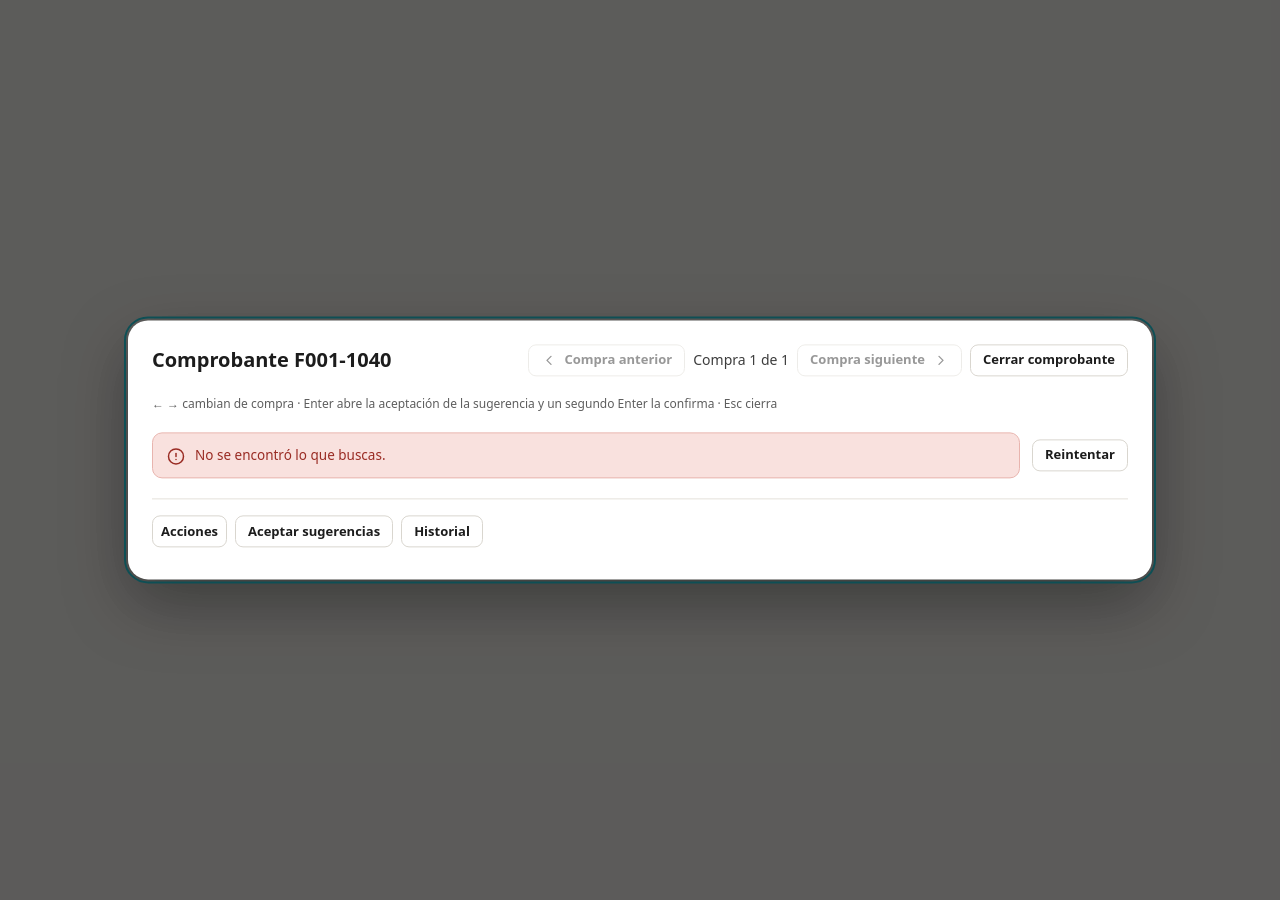
Test: Lupa · abrir con XML (CA-14) › error: sin XML no hay ítems ni comparación; un 404 muestra el error y «Reintentar» lo recupera
expect the message reads "No se encontró lo que buscas.": met, box [195, 446, 386, 464]
expect the element "Cabecera" is not shown: met
Click the button "Reintentar" at (1080, 456), box [1032, 440, 1128, 472]
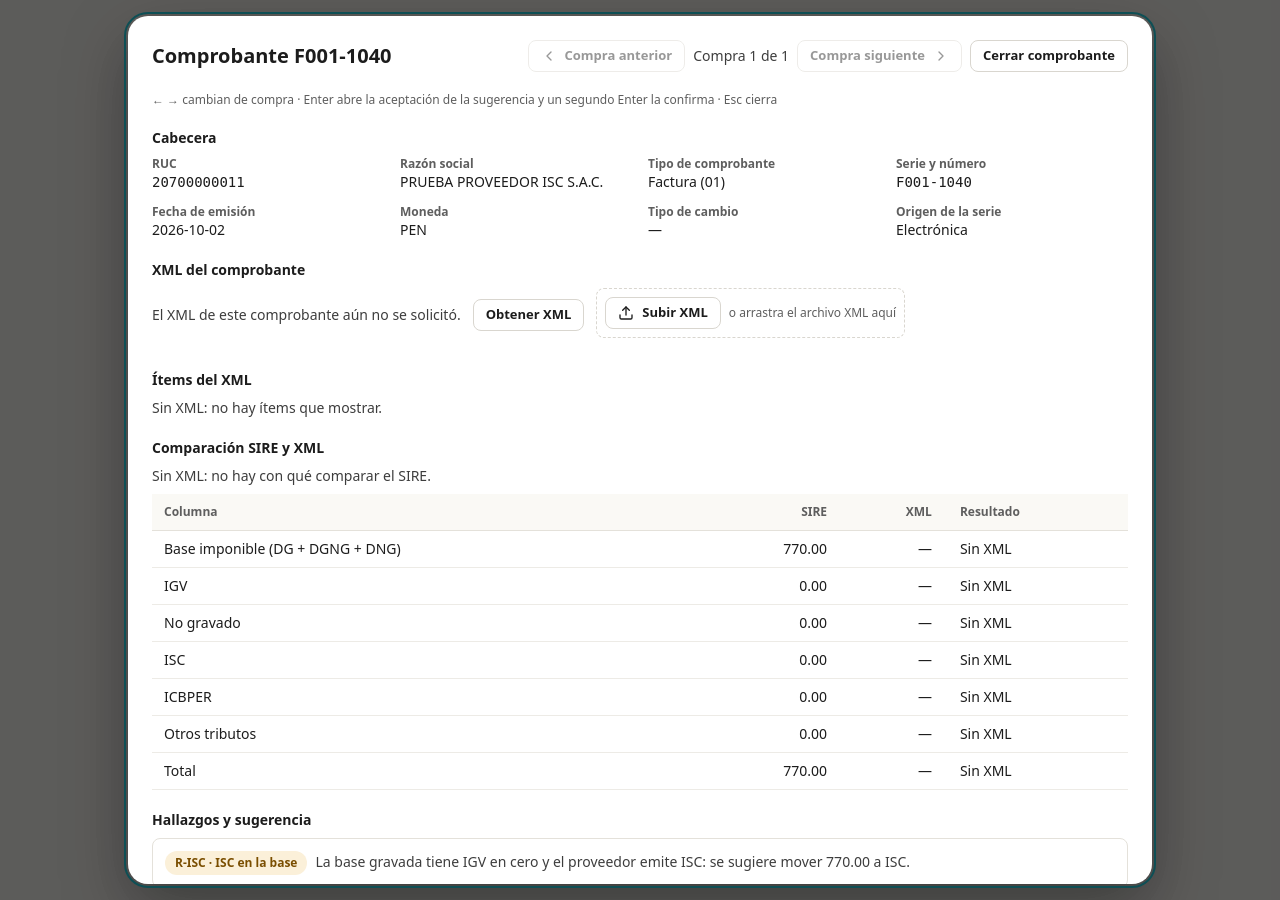
expect the element "Cabecera" is shown: met, box [152, 128, 1128, 240]
expect the text "Sin XML: no hay ítems que mostrar." is shown: met, box [152, 398, 382, 417]
expect the text "Sin XML: no hay con qué comparar el SIRE." is shown: met, box [152, 466, 431, 485]
